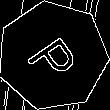P_NE: (22, 26, 84, 86)
